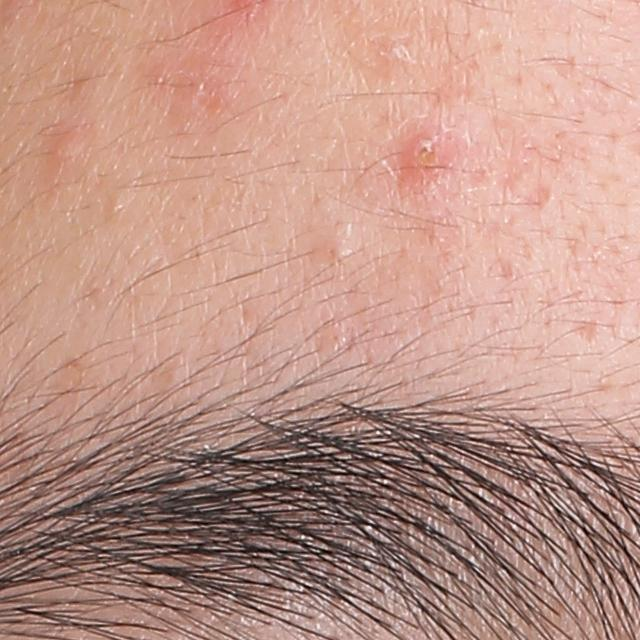atrophic_scar: (475, 126, 534, 203), (526, 183, 554, 212), (572, 318, 601, 345)
comedo: (368, 37, 410, 68), (108, 196, 125, 215)
papule: (406, 134, 453, 178), (50, 129, 86, 171)
